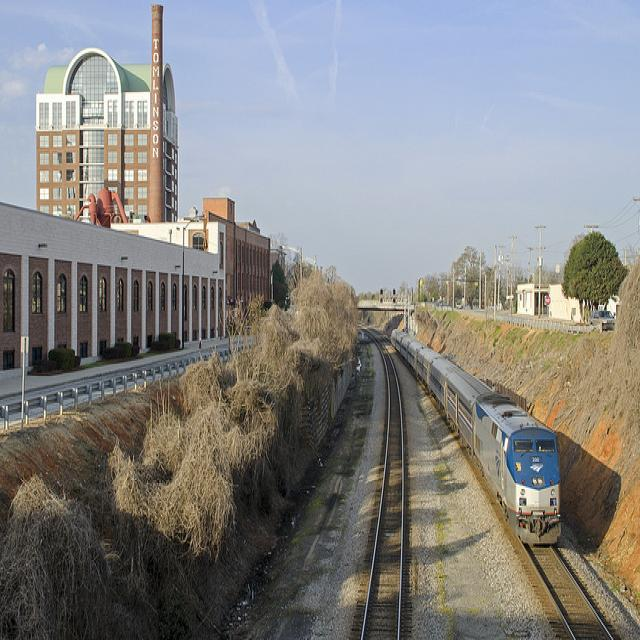Vehicle: (590, 310, 616, 332)
